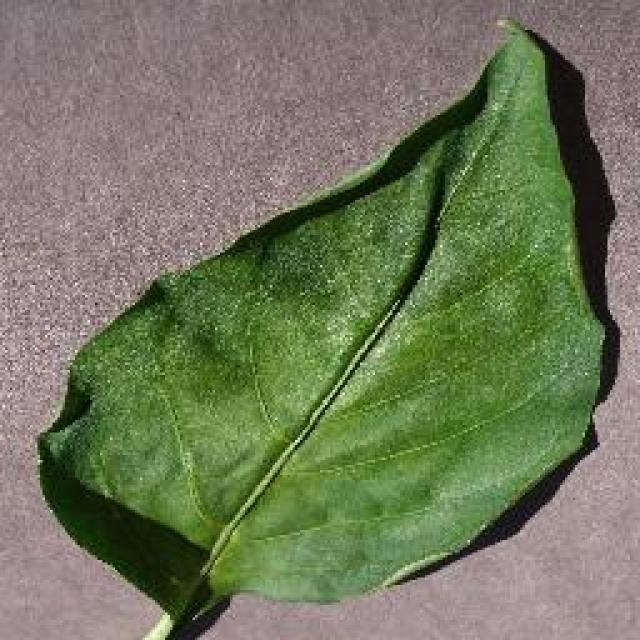Chilli_Healthy: (32, 15, 608, 637)
